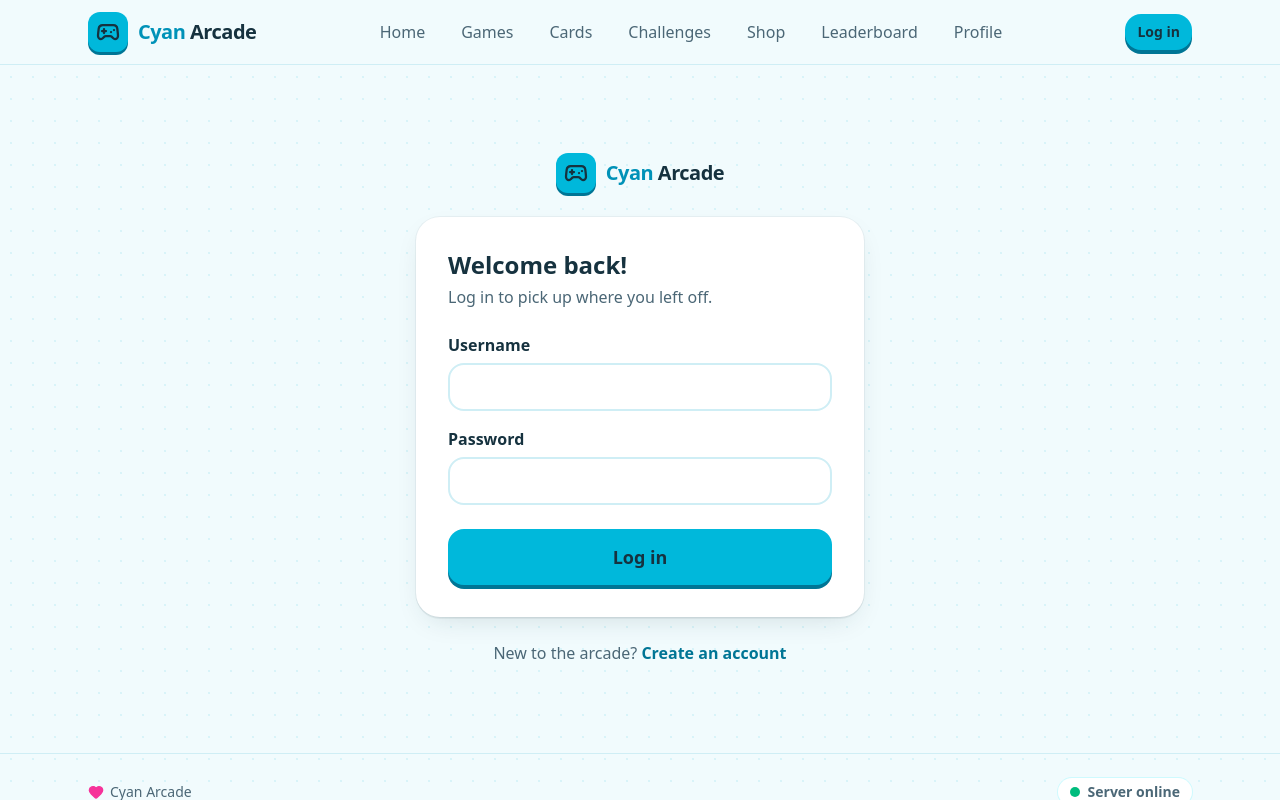
Test: logging in › says so when the server refuses further attempts for a while
The image size is (1280, 800).
In the field labelled "Username": (640,387) [448, 363, 832, 411], type "pixel"
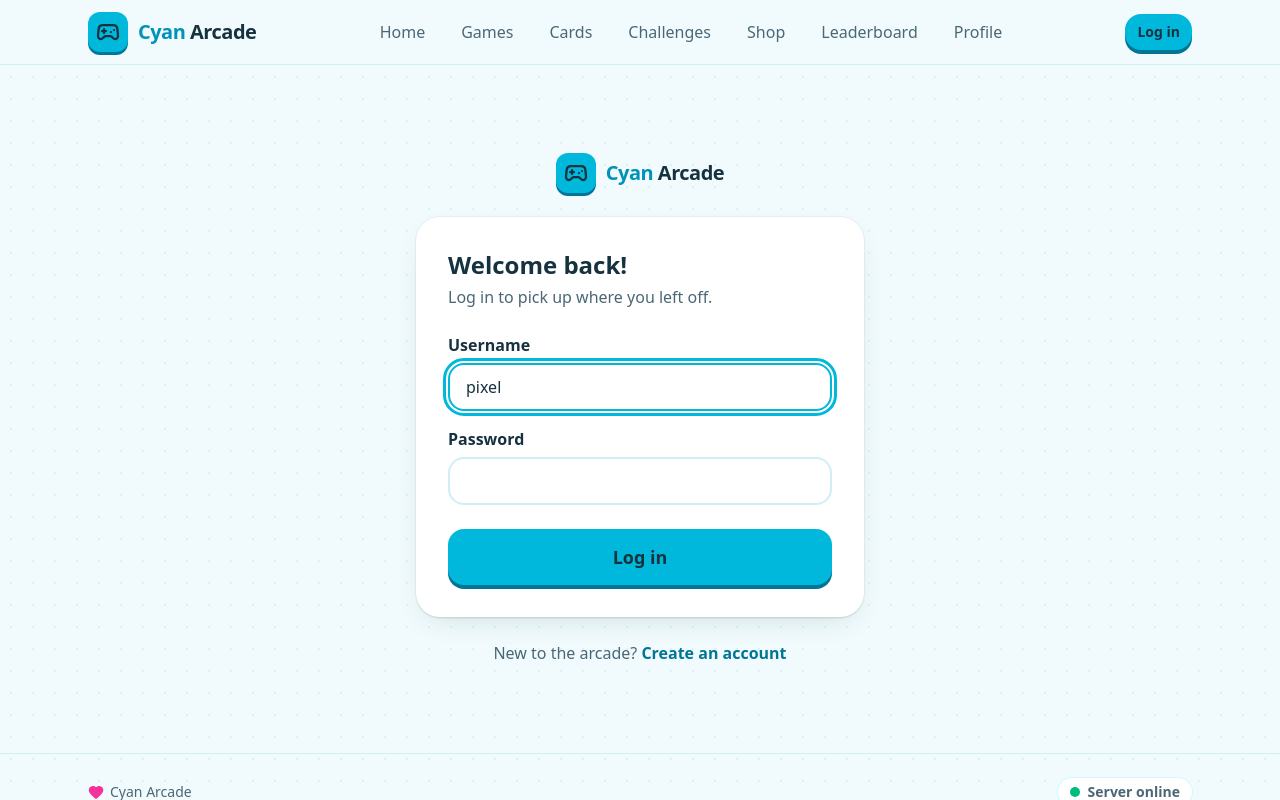
In the password field labelled "Password": (640,481) [448, 457, 832, 505], type "correct-horse-battery"
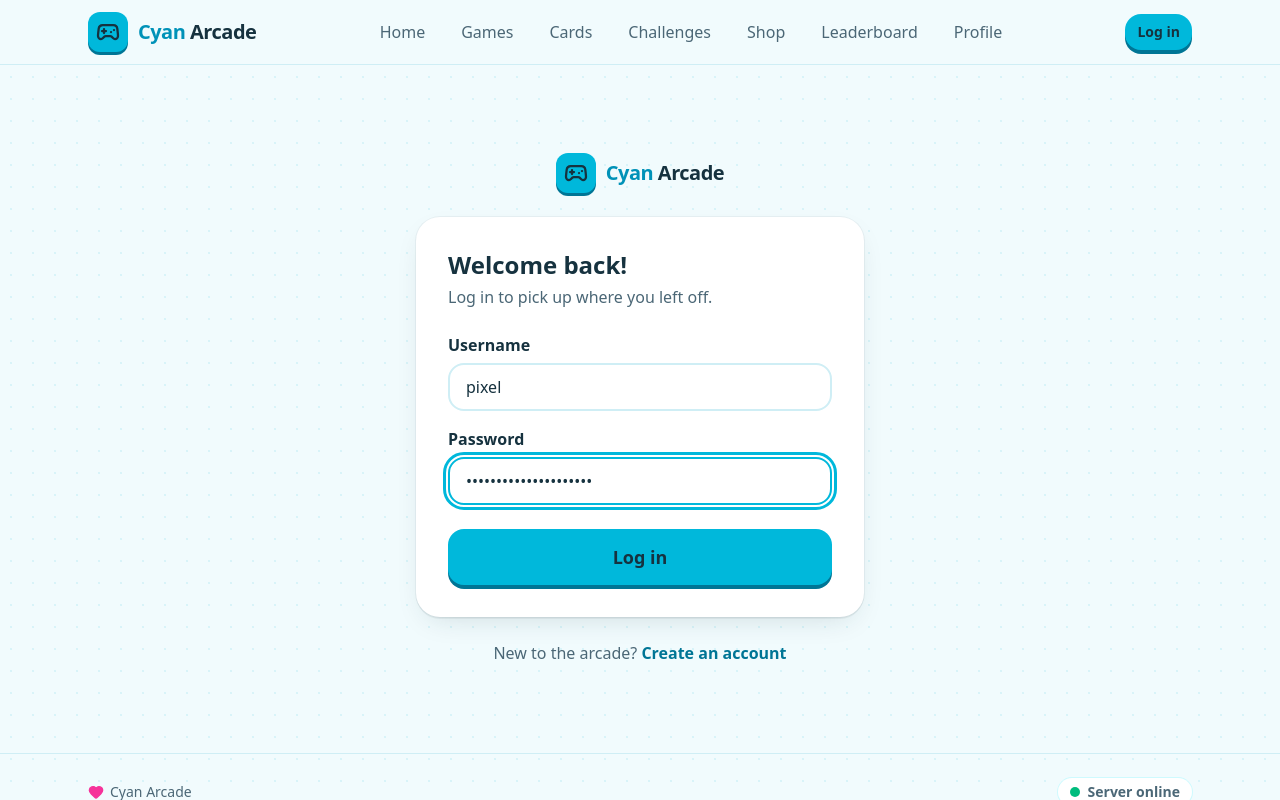
Click the button "Log in": (640,557) [448, 529, 832, 585]
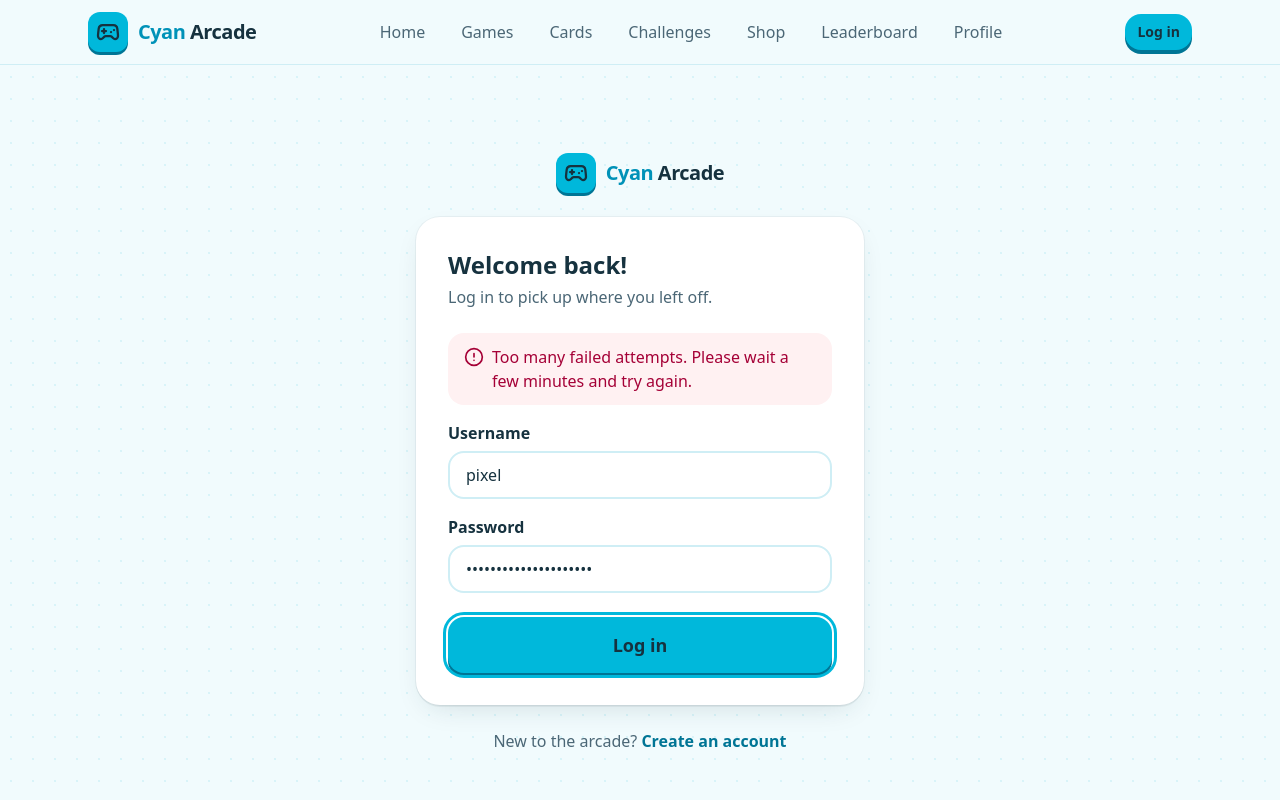
Expected: the heading "Welcome back!" is shown, [448, 248, 627, 281]
Result: the message shows "Too many failed attempts. Please wait a few minutes" at [492, 346, 789, 392]
